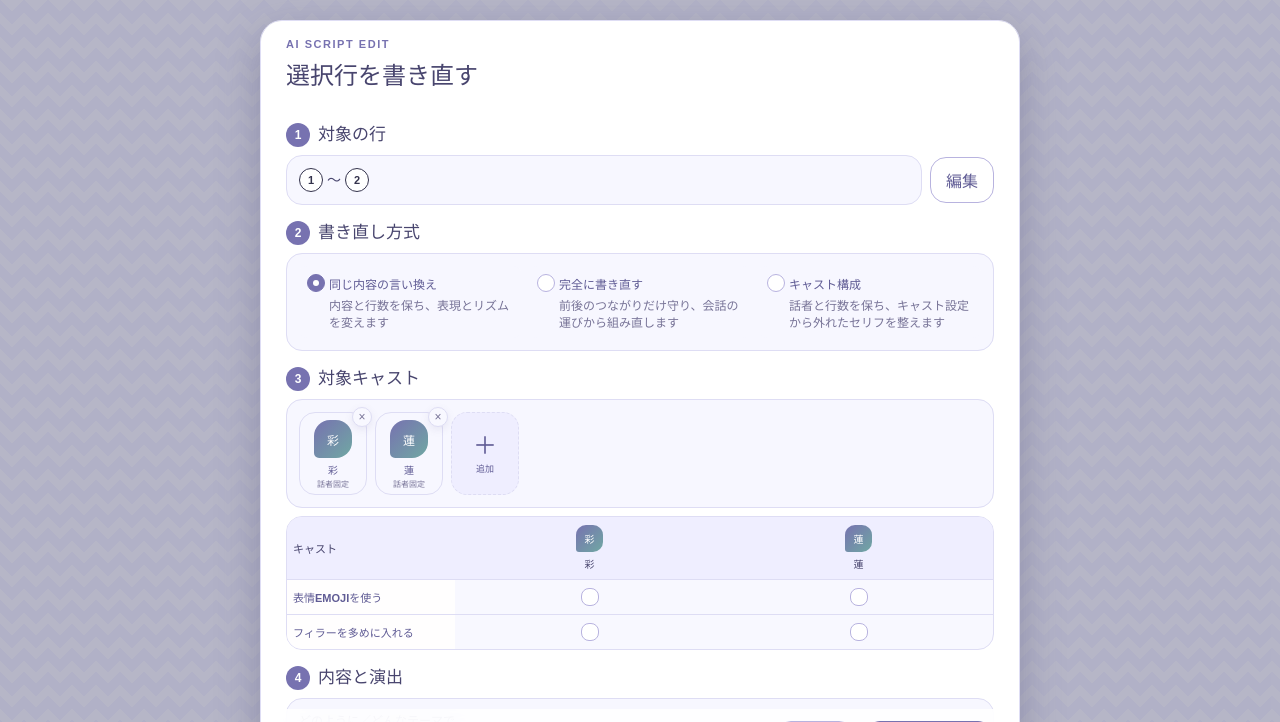
Test case: LineAssistantDialog › reveals the generation target inside rewrite mode for a complete rewrite
Click the radio button labelled "完全に書き直す": coordinates (546, 283) x1=537 y1=274 x2=555 y2=292
(page scrolled)
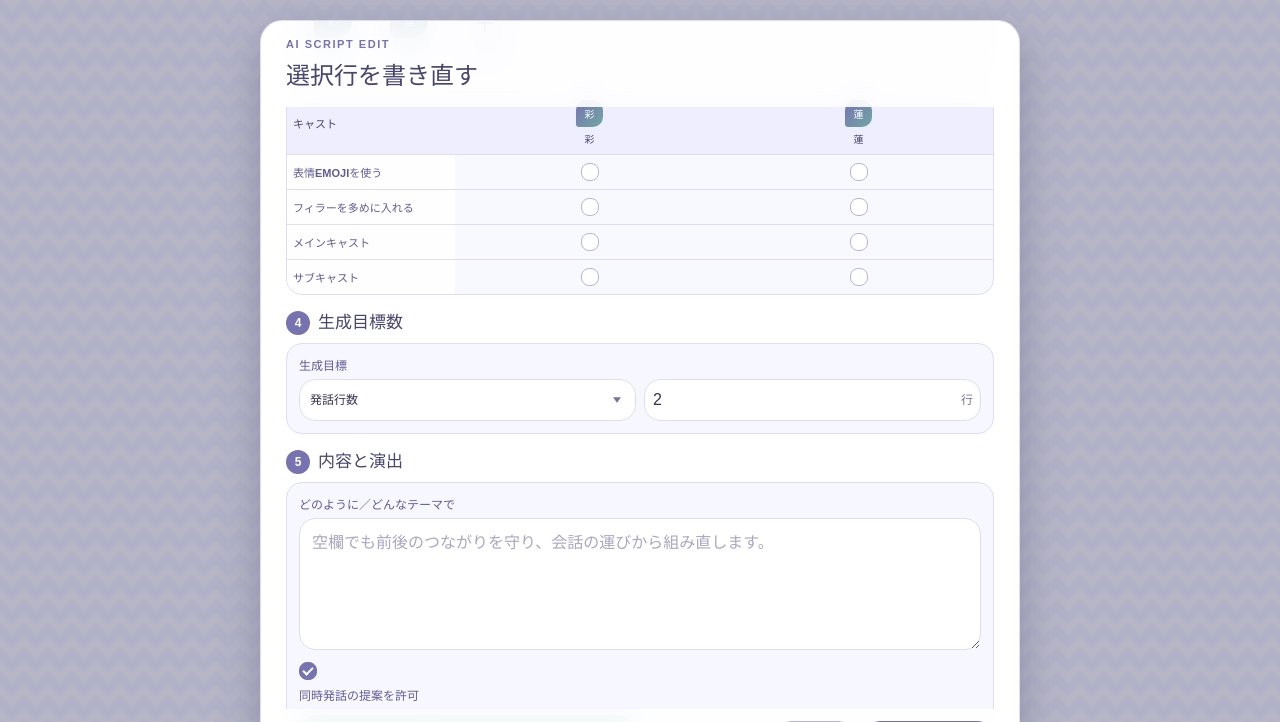
expect the text box with placeholder "空欄でも前後のつながりを守り、会話の運びから組み直します。" is shown: met, box x1=299 y1=518 x2=981 y2=650
expect the element "生成目標数" is shown: met, box x1=286 y1=307 x2=994 y2=434
expect the heading "4 生成目標数" is shown: met, box x1=286 y1=311 x2=403 y2=335
Clear the number field named "行数": coordinates (812, 400) x1=644 y1=379 x2=981 y2=421
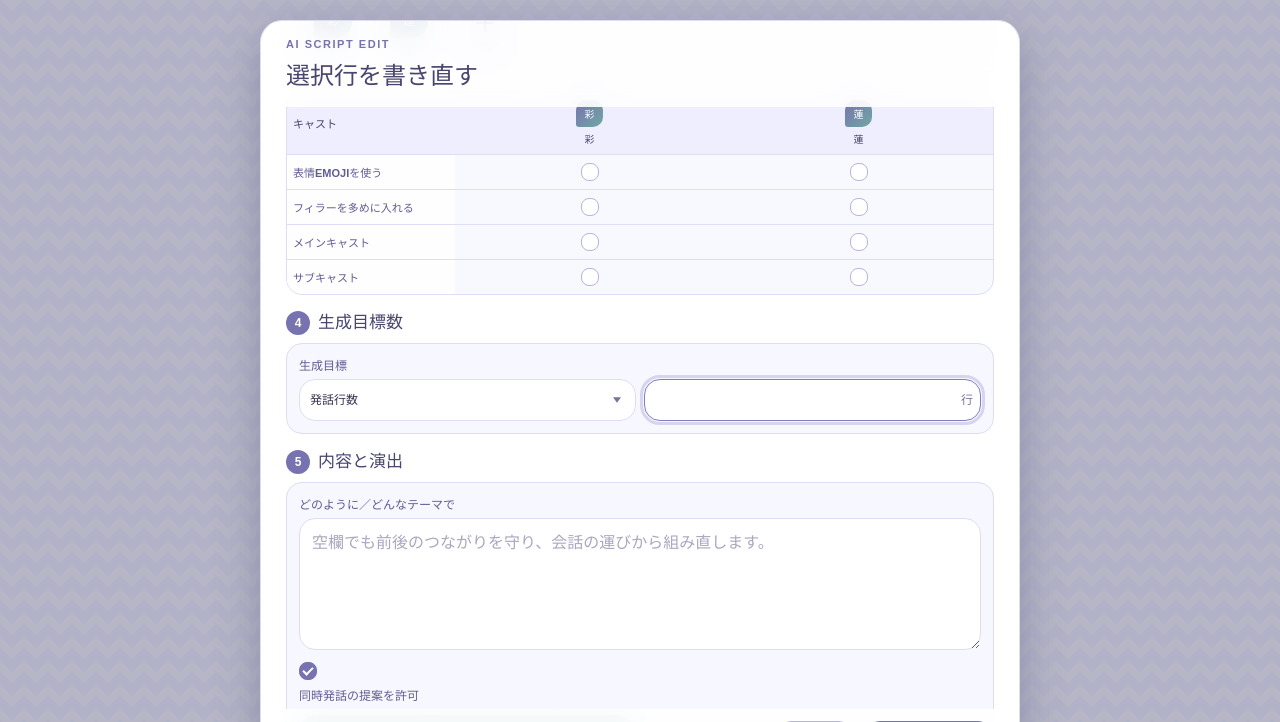
In the number field named "行数": coordinates (812, 400) x1=644 y1=379 x2=981 y2=421, type "8"
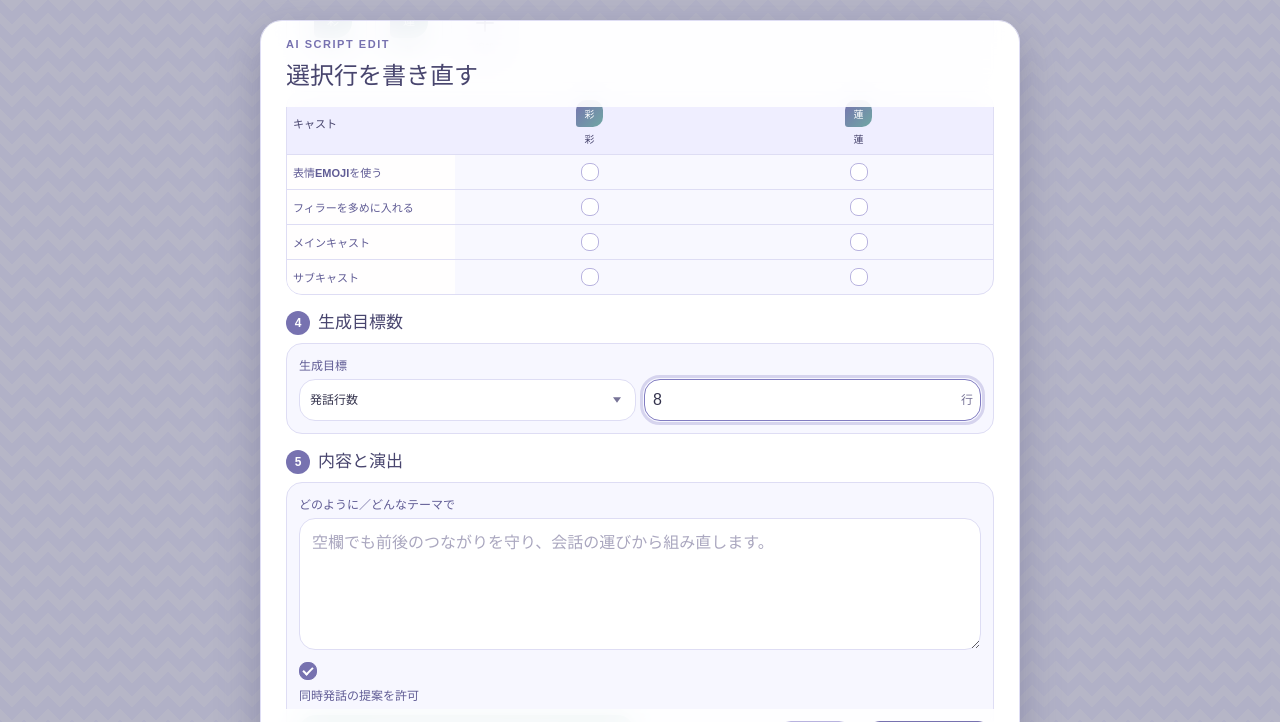
Select "分" in the dropdown labelled "生成目標": coordinates (468, 400) x1=299 y1=379 x2=636 y2=421
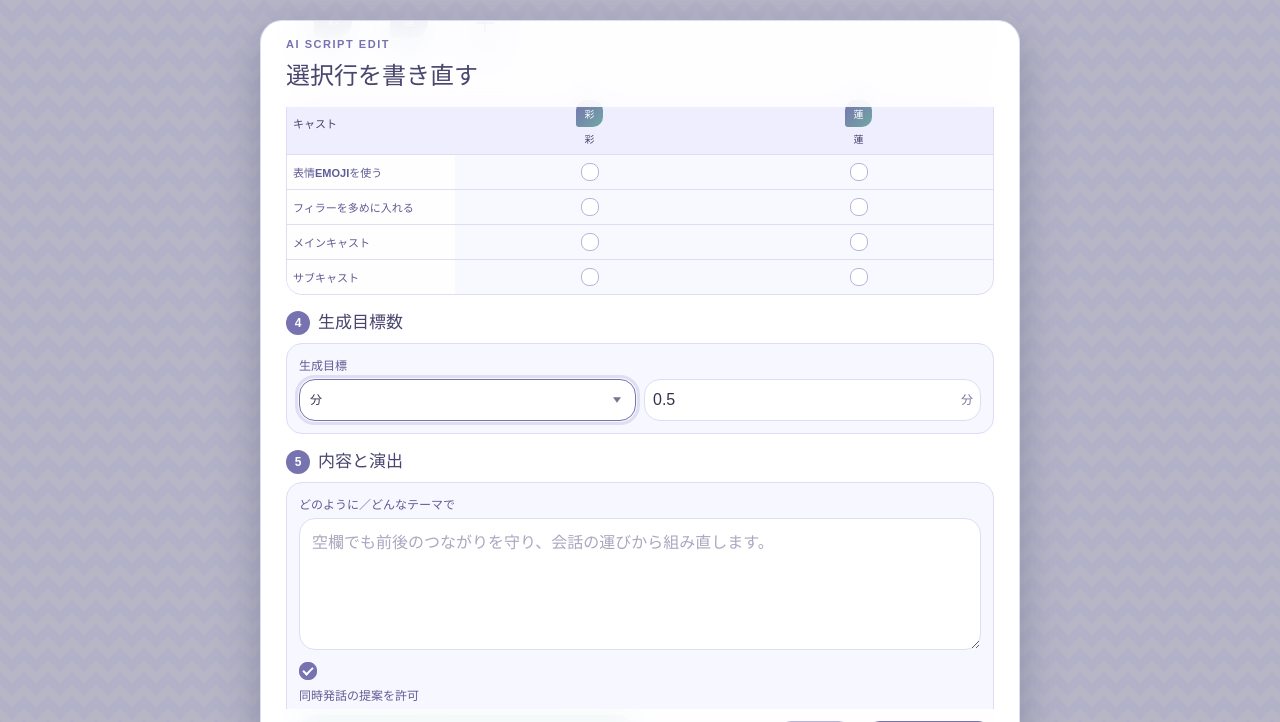
expect the heading "5 内容と演出" is shown: met, box x1=286 y1=450 x2=403 y2=474
expect the element showing "分" is shown: met, box x1=644 y1=379 x2=981 y2=421
